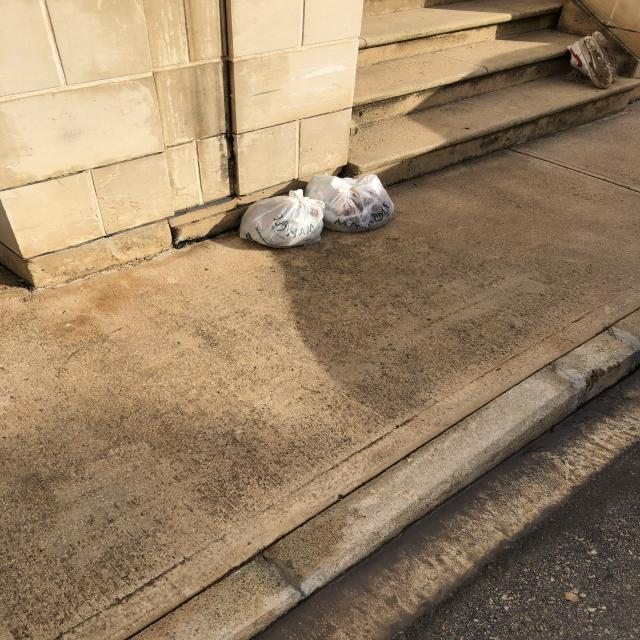Organic Waste -White Bag-: (310, 172, 399, 237), (238, 190, 326, 249)
Other: (560, 29, 628, 90)
